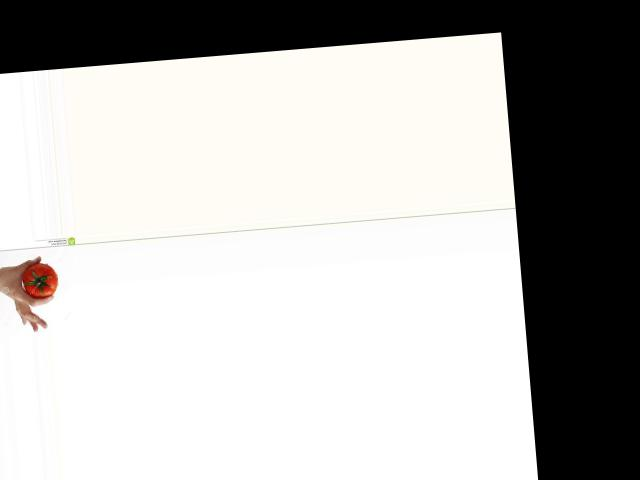tomato: (21, 261, 58, 299)
